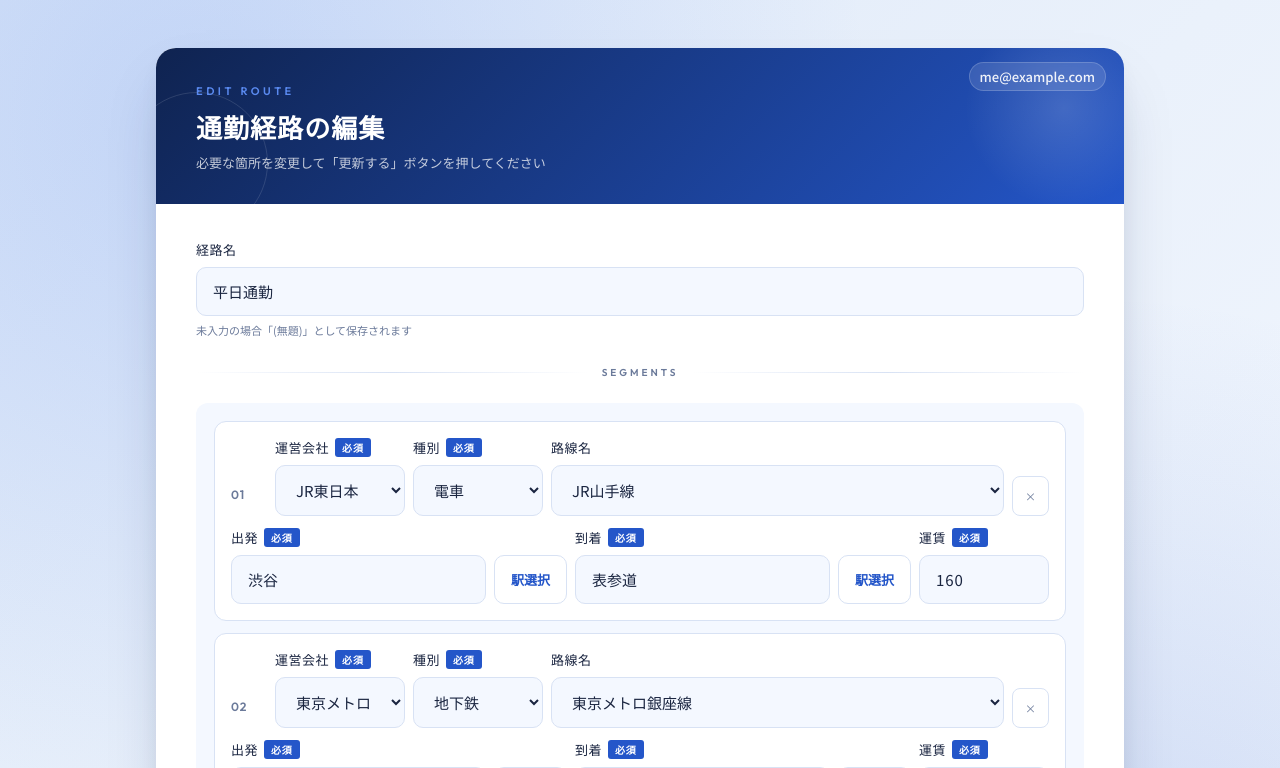
RouteEdit › 未入力 (区間 出発駅を空にして送信) でフィールドエラーが出て PUT は呼ばれない
The image size is (1280, 768).
Check: the field labelled "経路名" holds "平日通勤", box left=196, top=267, right=1084, bottom=316
Clear the field named "区間1 出発駅" at (358, 580), box left=231, top=555, right=486, bottom=604
(page scrolled)
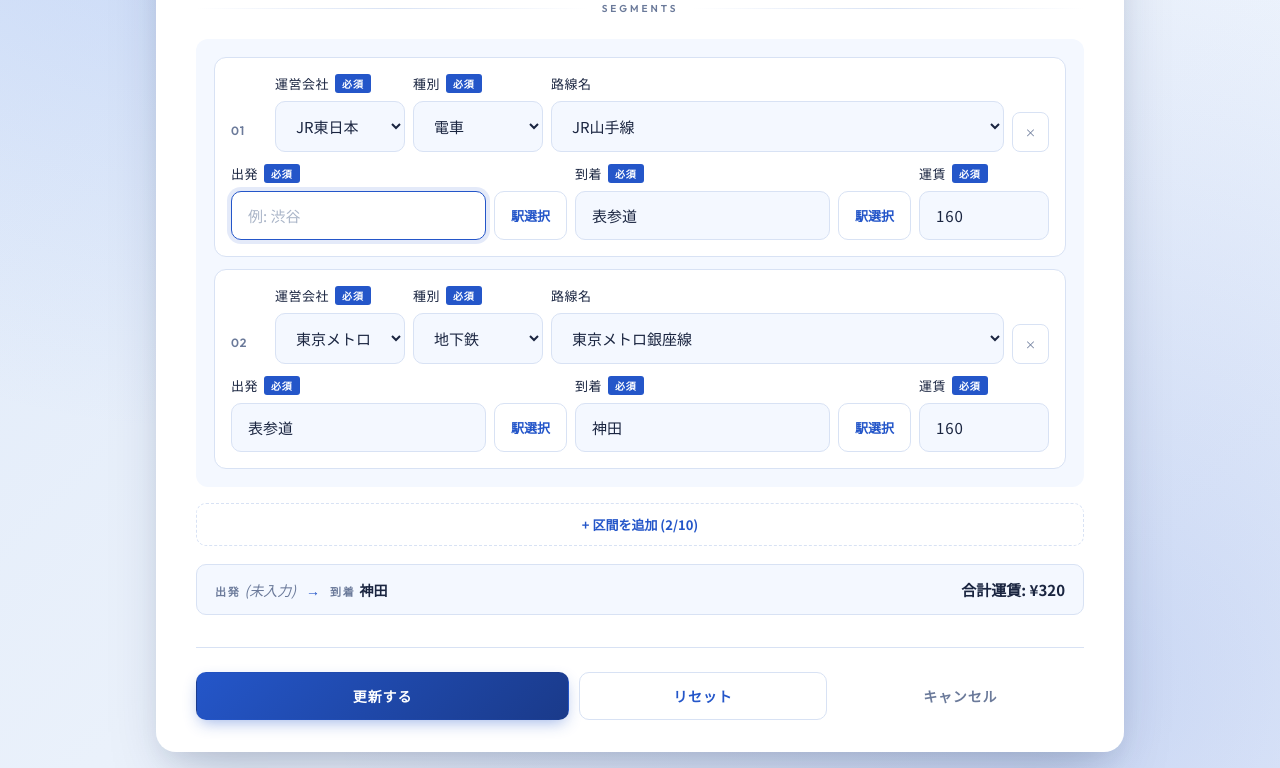
Click the button "更新する".
click(383, 696)  # box left=196, top=672, right=569, bottom=720
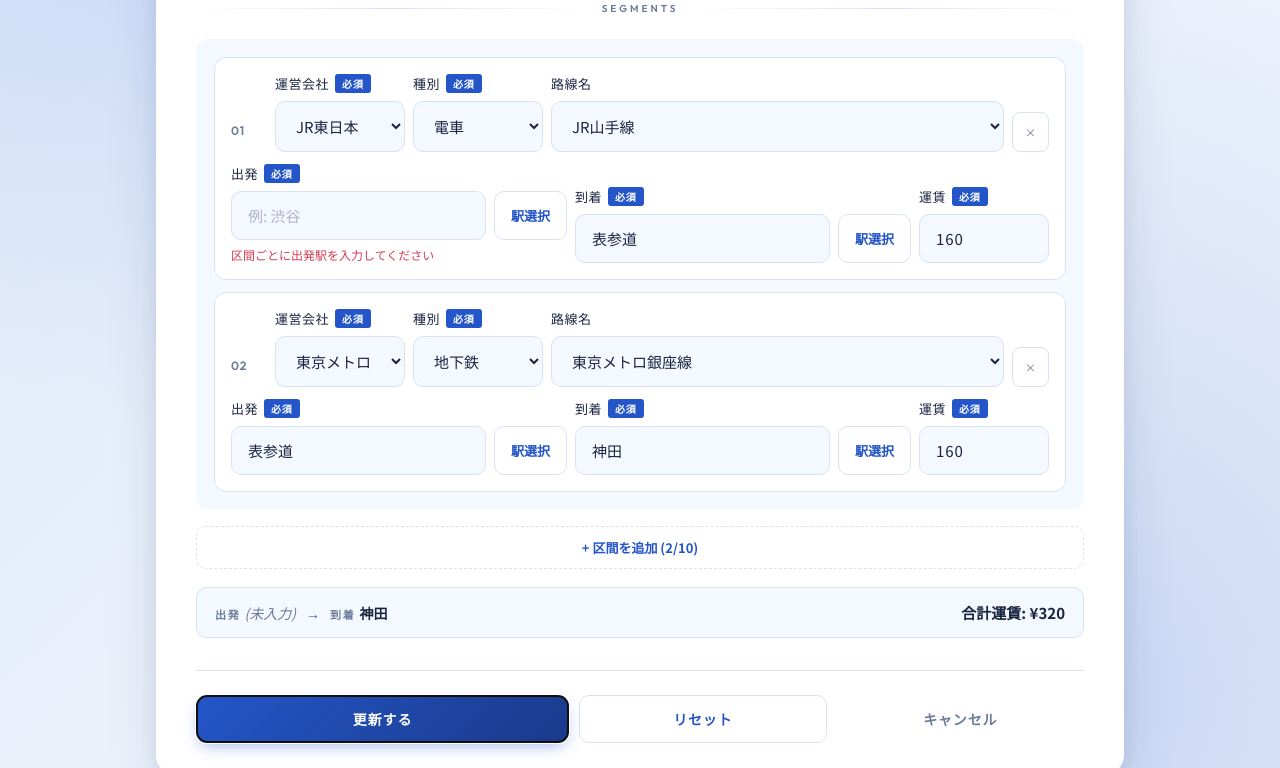
Check: the text "区間ごとに出発駅を入力してください" is shown, box left=231, top=246, right=434, bottom=263
